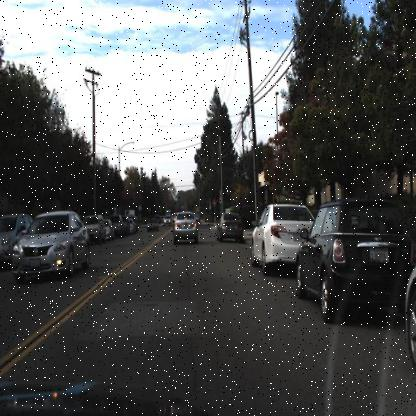car: (295, 199, 413, 327), (12, 211, 90, 285), (249, 200, 313, 273), (0, 208, 38, 268), (173, 211, 197, 244), (218, 213, 242, 242), (83, 213, 103, 244)
